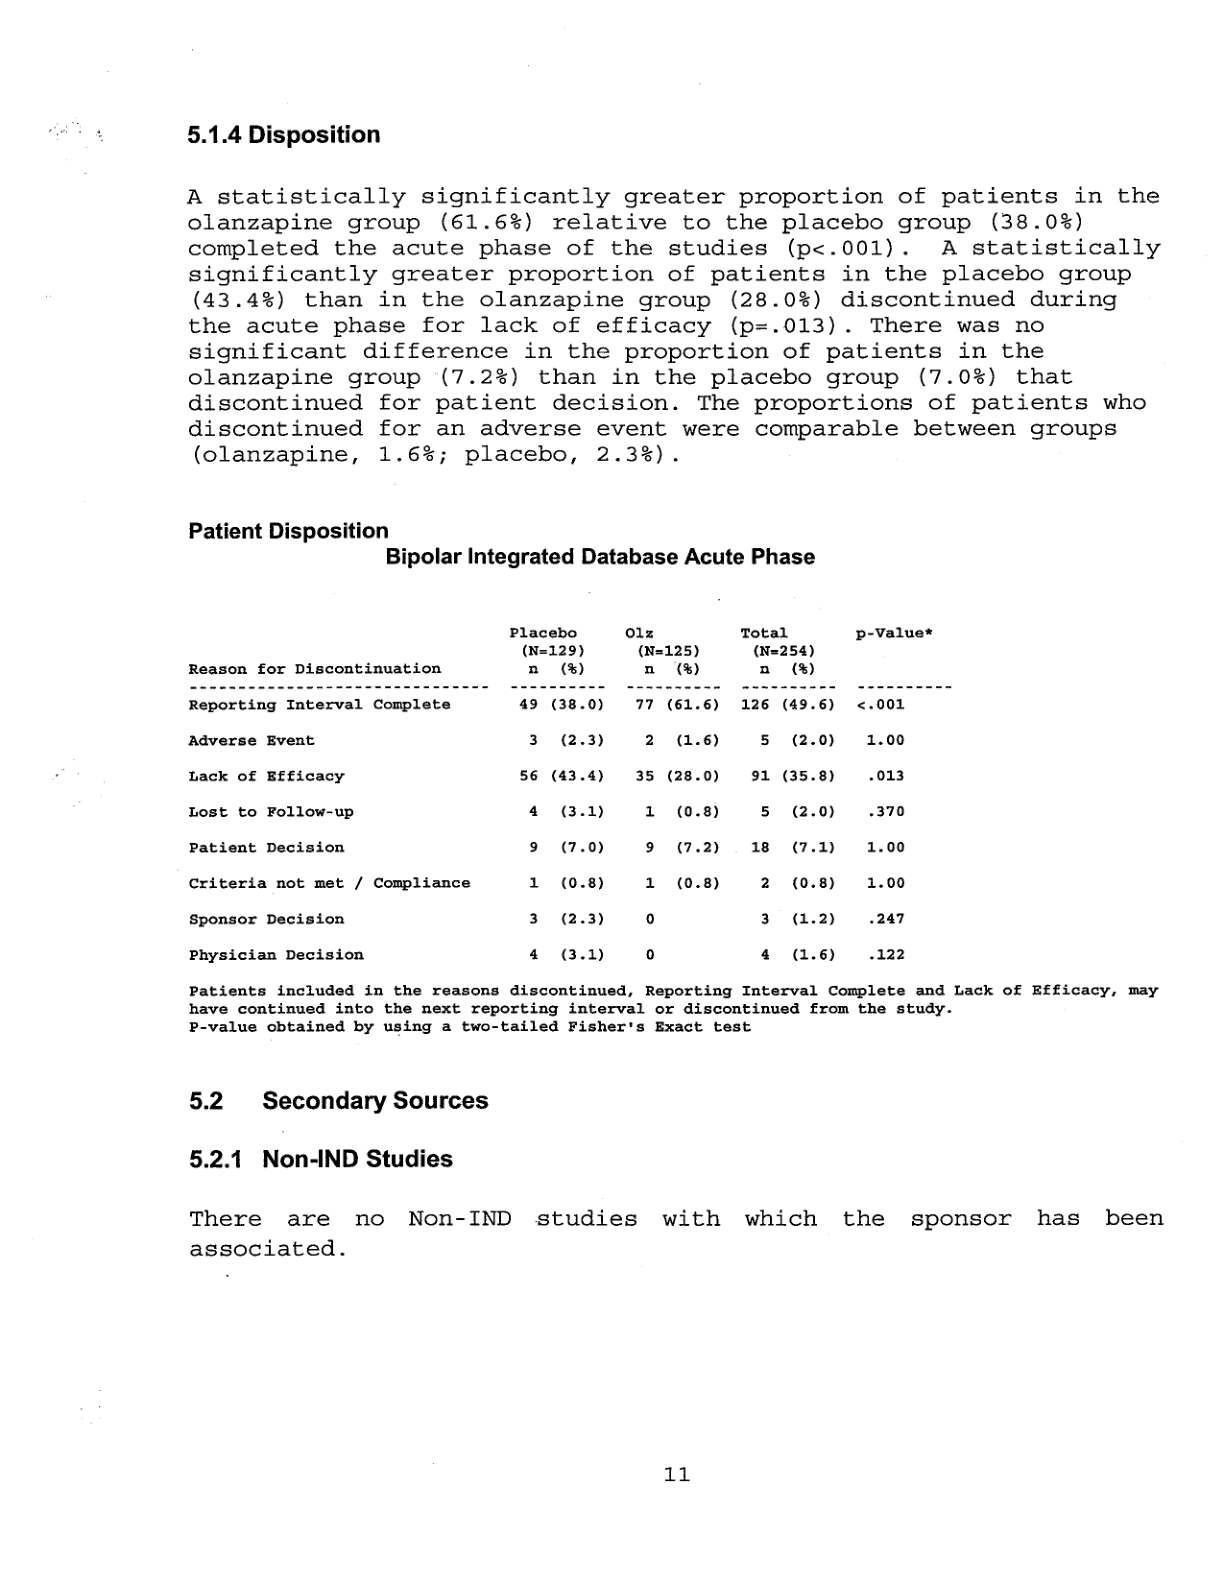nolines: (185, 625, 950, 964)
